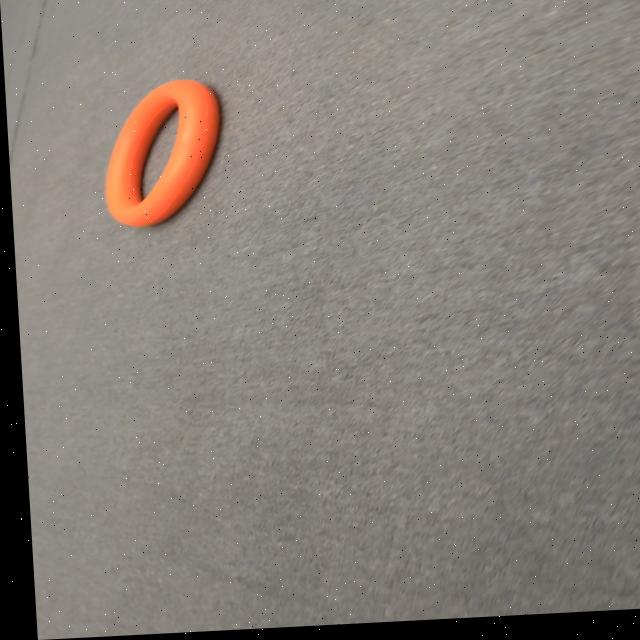note: (99, 79, 225, 228)
